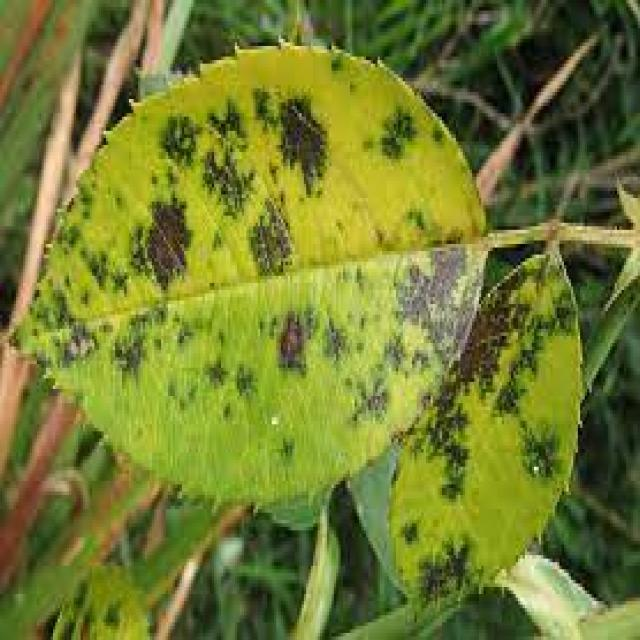black-spot: (104, 42, 356, 364)
